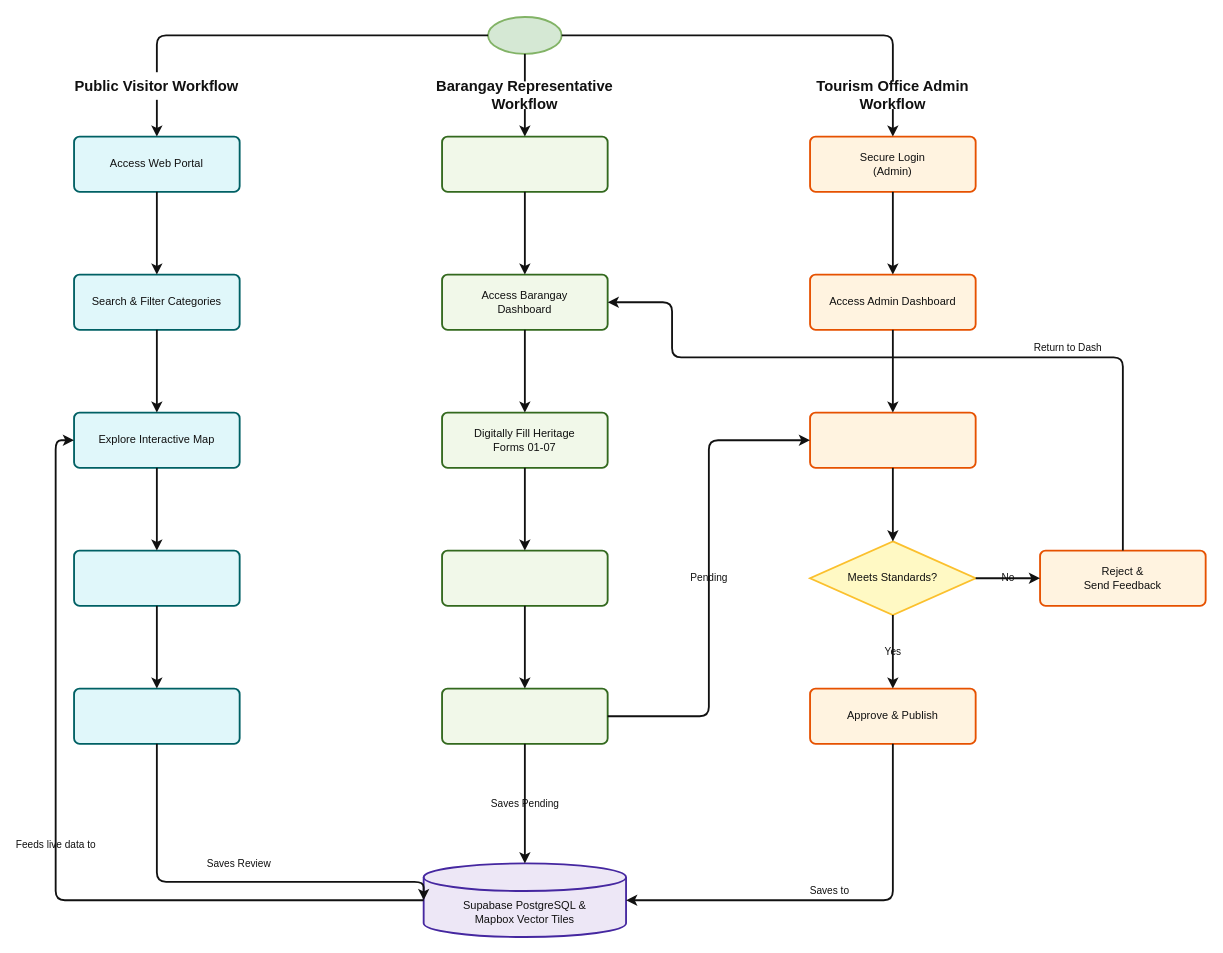
The diagram is 1223 pixels wide and 953 high, and some of its shapes have lost their labels. The shapes that lost their labels are listed below. From the top down, each one's centre as x and y in pixels, then its label:
[524,35]: Start
[524,163]: Secure Login (Contributor)
[892,439]: Review Pending Submissions
[156,577]: View Attraction Details
[524,577]: Upload Photos & Videos
[156,715]: Leave Review / Navigate
[524,715]: Submit Asset for Review
